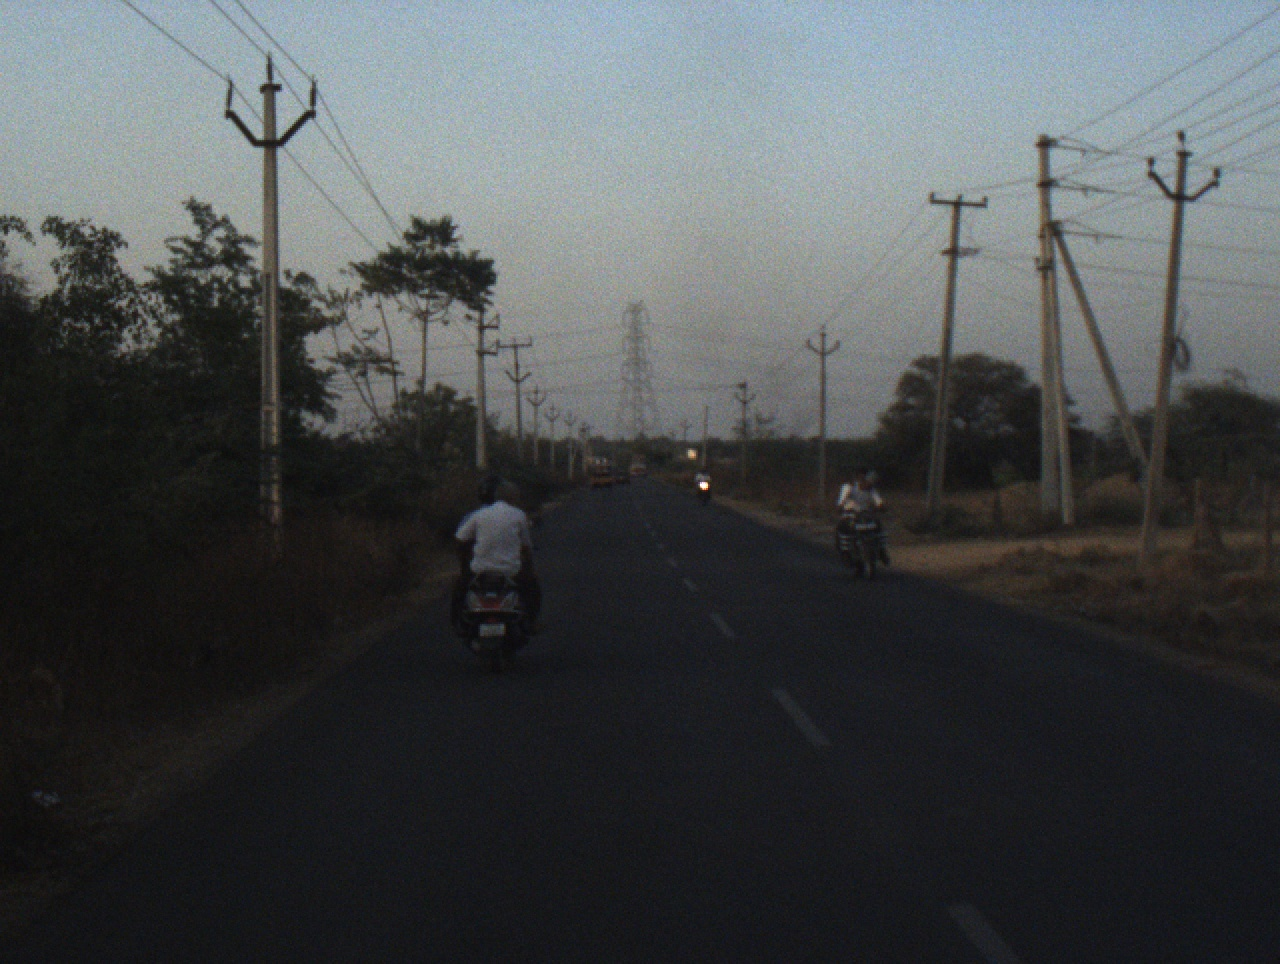autorickshaw: (587, 455, 616, 489)
car: (610, 468, 631, 487)
motorcycle: (446, 514, 548, 672), (834, 501, 889, 584), (696, 479, 713, 507)
rider: (443, 480, 544, 640), (829, 467, 896, 569), (458, 474, 503, 529), (694, 459, 713, 496), (852, 464, 868, 482)
truck: (626, 449, 650, 480)
